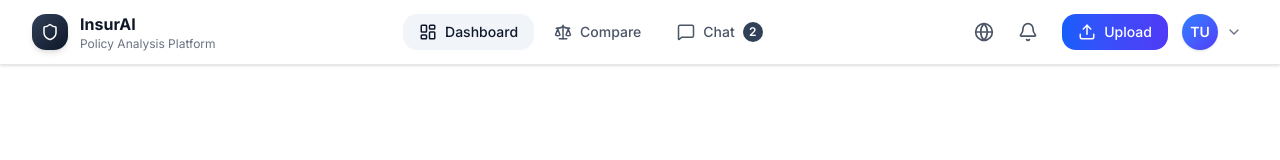
it: GlobalNavigation › Profile Menu › should show menu items in profile menu
Click the button with aria-label "User menu".
click(1212, 32)  # box [1176,8,1248,56]
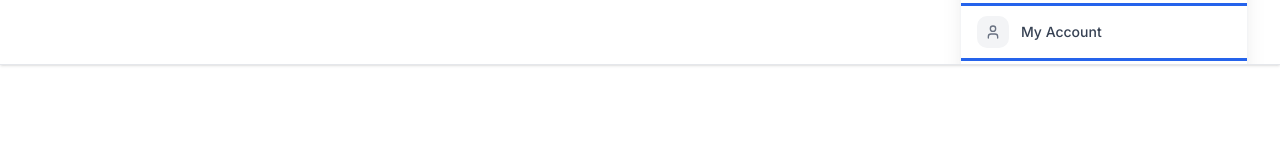
Expected: the menu item "My Account" is shown, [961,6,1247,58]
